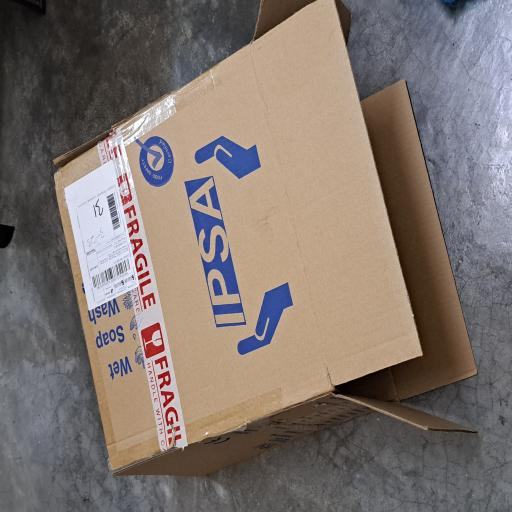cardboard: (6, 67, 384, 512)
